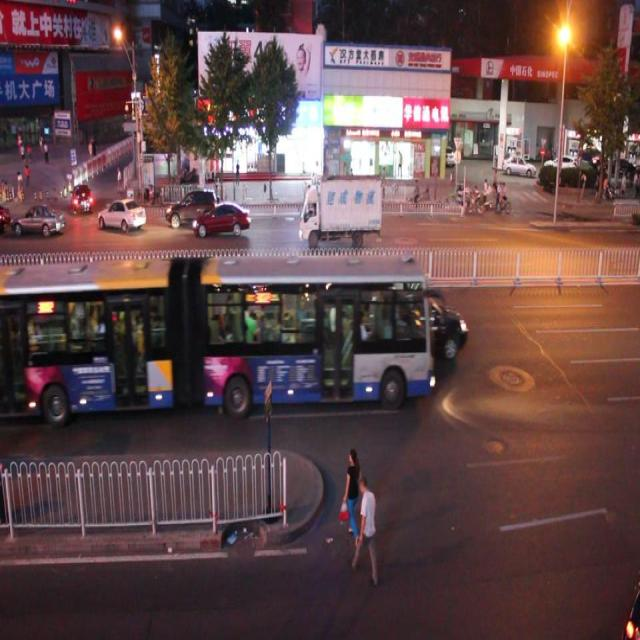bus: (298, 178, 381, 249)
car: (386, 294, 467, 360), (166, 185, 223, 232), (192, 201, 251, 238), (11, 202, 66, 240), (98, 194, 147, 231), (71, 182, 94, 213)
van: (1, 258, 431, 402)
